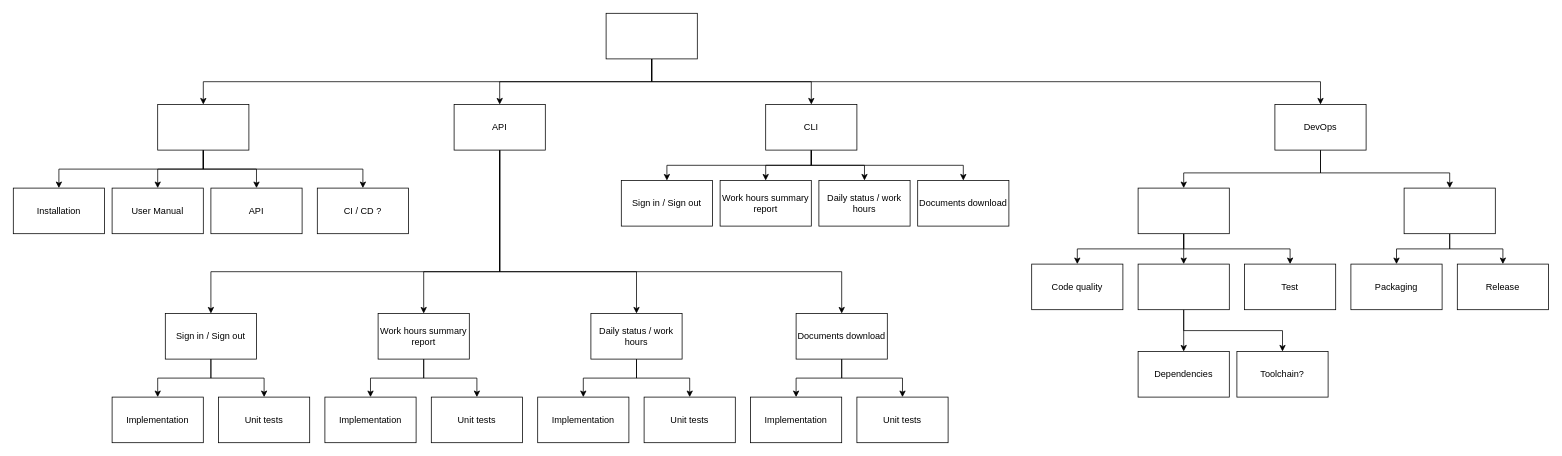
This 1562x456 diagram has some shape labels left out. The shapes that lost their labels are listed below. From the top down, each one's centre as x and y in pixels, then its label:
the point at 651,36: Woffu client
the point at 203,127: Documentation
the point at 1183,210: Continuous Integration
the point at 1449,210: Continuous Delivery
the point at 1183,286: Build
